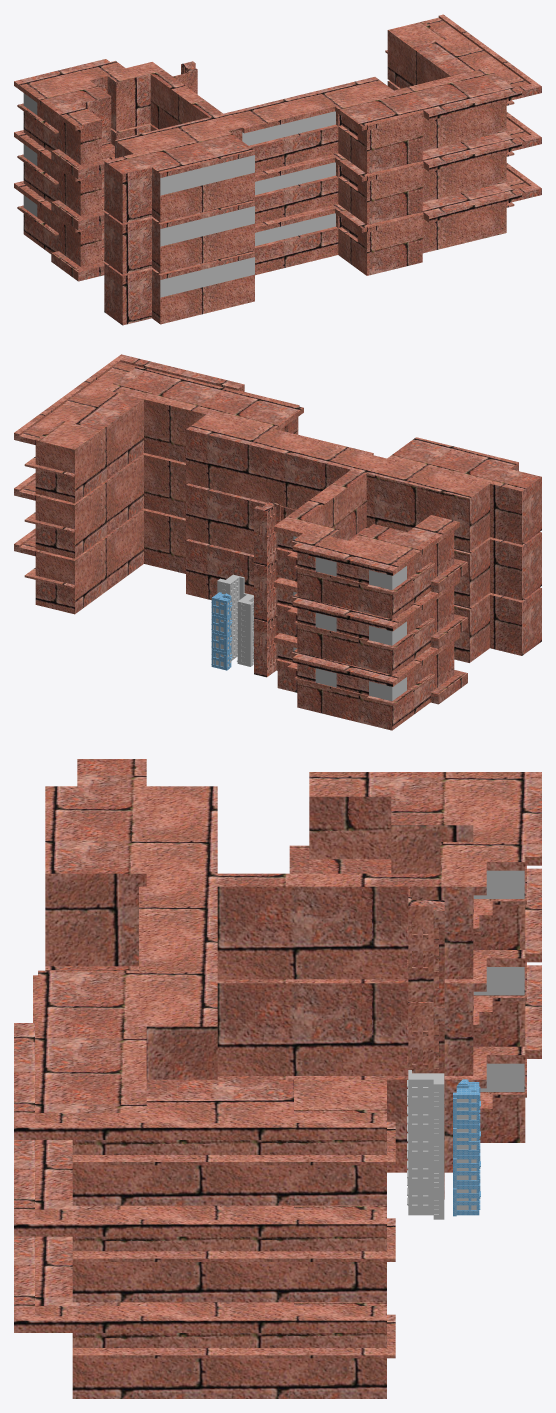
Rendered from decor03.obj.
3 renders of one model, top to bottom at view 1: azimuth 30°, elevation 25°; view 2: azimuth 150°, elevation 25°; view 3: azimuth 270°, elevation 25°, orthographic. The views are drawn at different scales.
Visible parts, largest first — view 1: Cube.011; view 2: Cube.011, Cube.013, Cube.010, Cube.012; view 3: Cube.011, Cube.012, Cube.013.
Part boxes in pixels (<box>): Cube.011: <box>14,14,541,325</box>; Cube.011: <box>14,354,541,730</box>; Cube.013: <box>211,592,232,670</box>; Cube.010: <box>236,593,253,666</box>; Cube.012: <box>217,574,244,660</box>; Cube.011: <box>14,759,541,1398</box>; Cube.012: <box>407,1070,444,1219</box>; Cube.013: <box>453,1079,480,1216</box>.
Bounding box in the file's own units: 1138 × 413 × 682.
